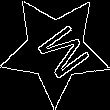M_SW: (23, 16, 88, 83)
